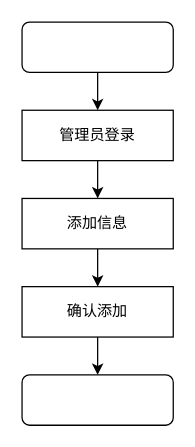
Some shapes in this 195 by 447 pixel diagram are drawn without their labels. Each missing label, with the centre of its shape:
开始: [97,46]
结束: [97,399]
